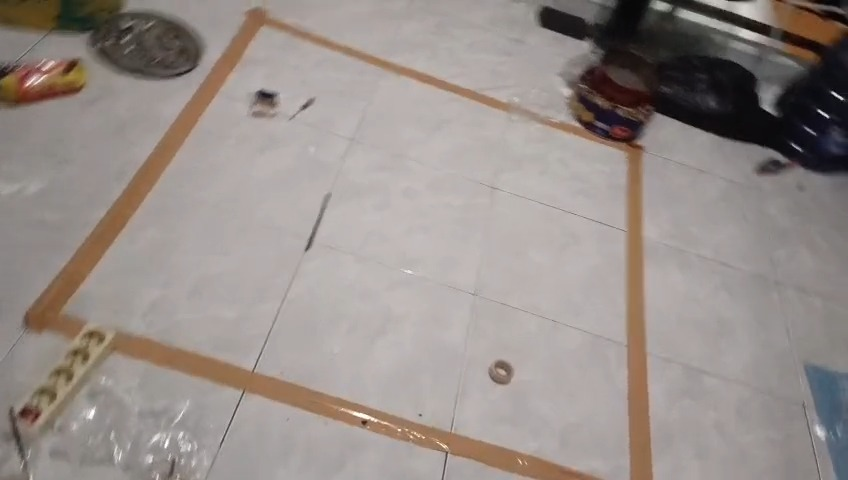floor marking: (26, 8, 510, 337), (114, 332, 597, 479), (514, 108, 652, 479)
